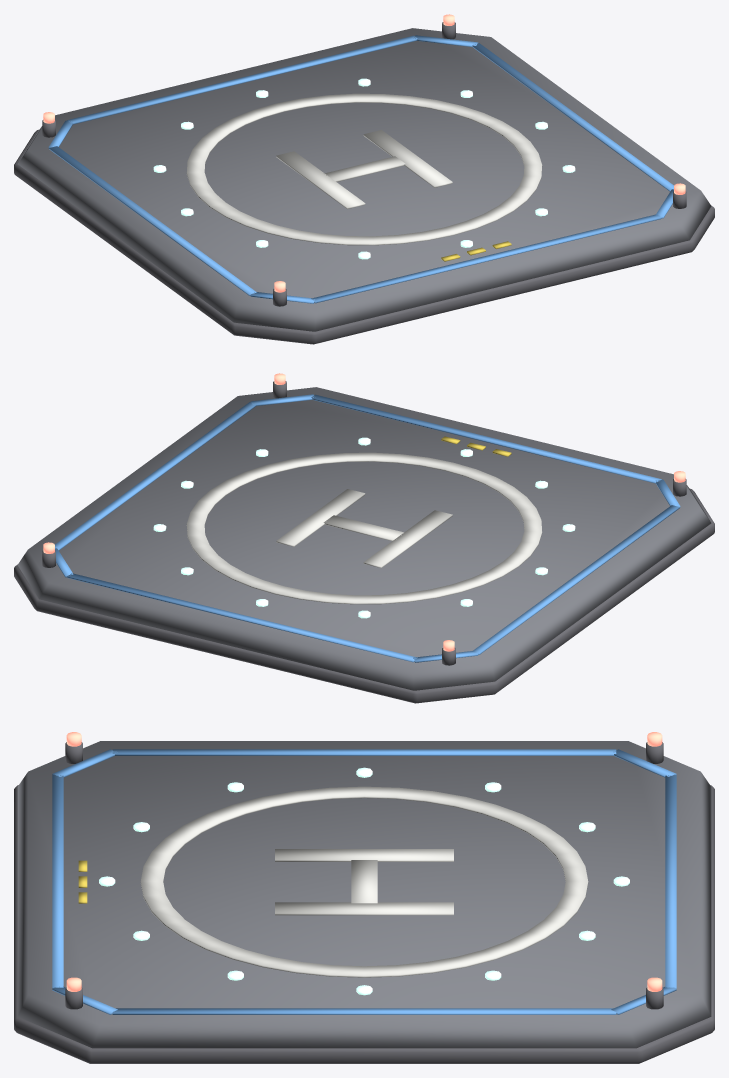
File: airpad.glb
3 views of the same model, one above another, from view 1: azimuth 30°, elevation 25°; view 2: azimuth 150°, elevation 25°; view 3: azimuth 270°, elevation 25° (orthographic). The views are drawn at different scales.
Visible parts, largest first — view 1: body; view 2: body; view 3: body.
Part boxes in pixels (x1,y1,x2,y2): body: (14,14,714,344); body: (14,373,714,703); body: (14,732,714,1063).
Size of the model in its own units: 1.88 by 0.175 by 1.88.
